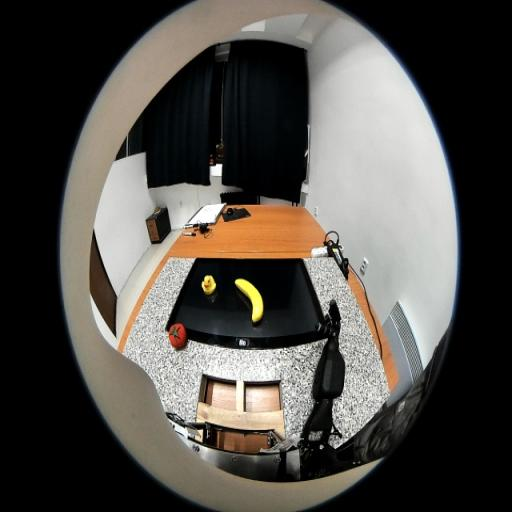Banana: (234, 278, 264, 324)
Duck: (202, 275, 216, 295)
RightHand: (328, 321, 341, 340)
Tomato: (169, 322, 187, 348)
